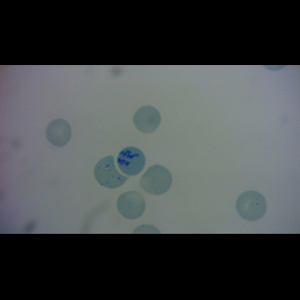aggregate reticulocyte: (116, 145, 147, 177)
erythrocyte: (138, 163, 174, 197), (234, 189, 268, 223), (131, 104, 163, 135), (44, 117, 73, 148)
punctate reticulocyte: (92, 155, 129, 189), (115, 189, 147, 221)
